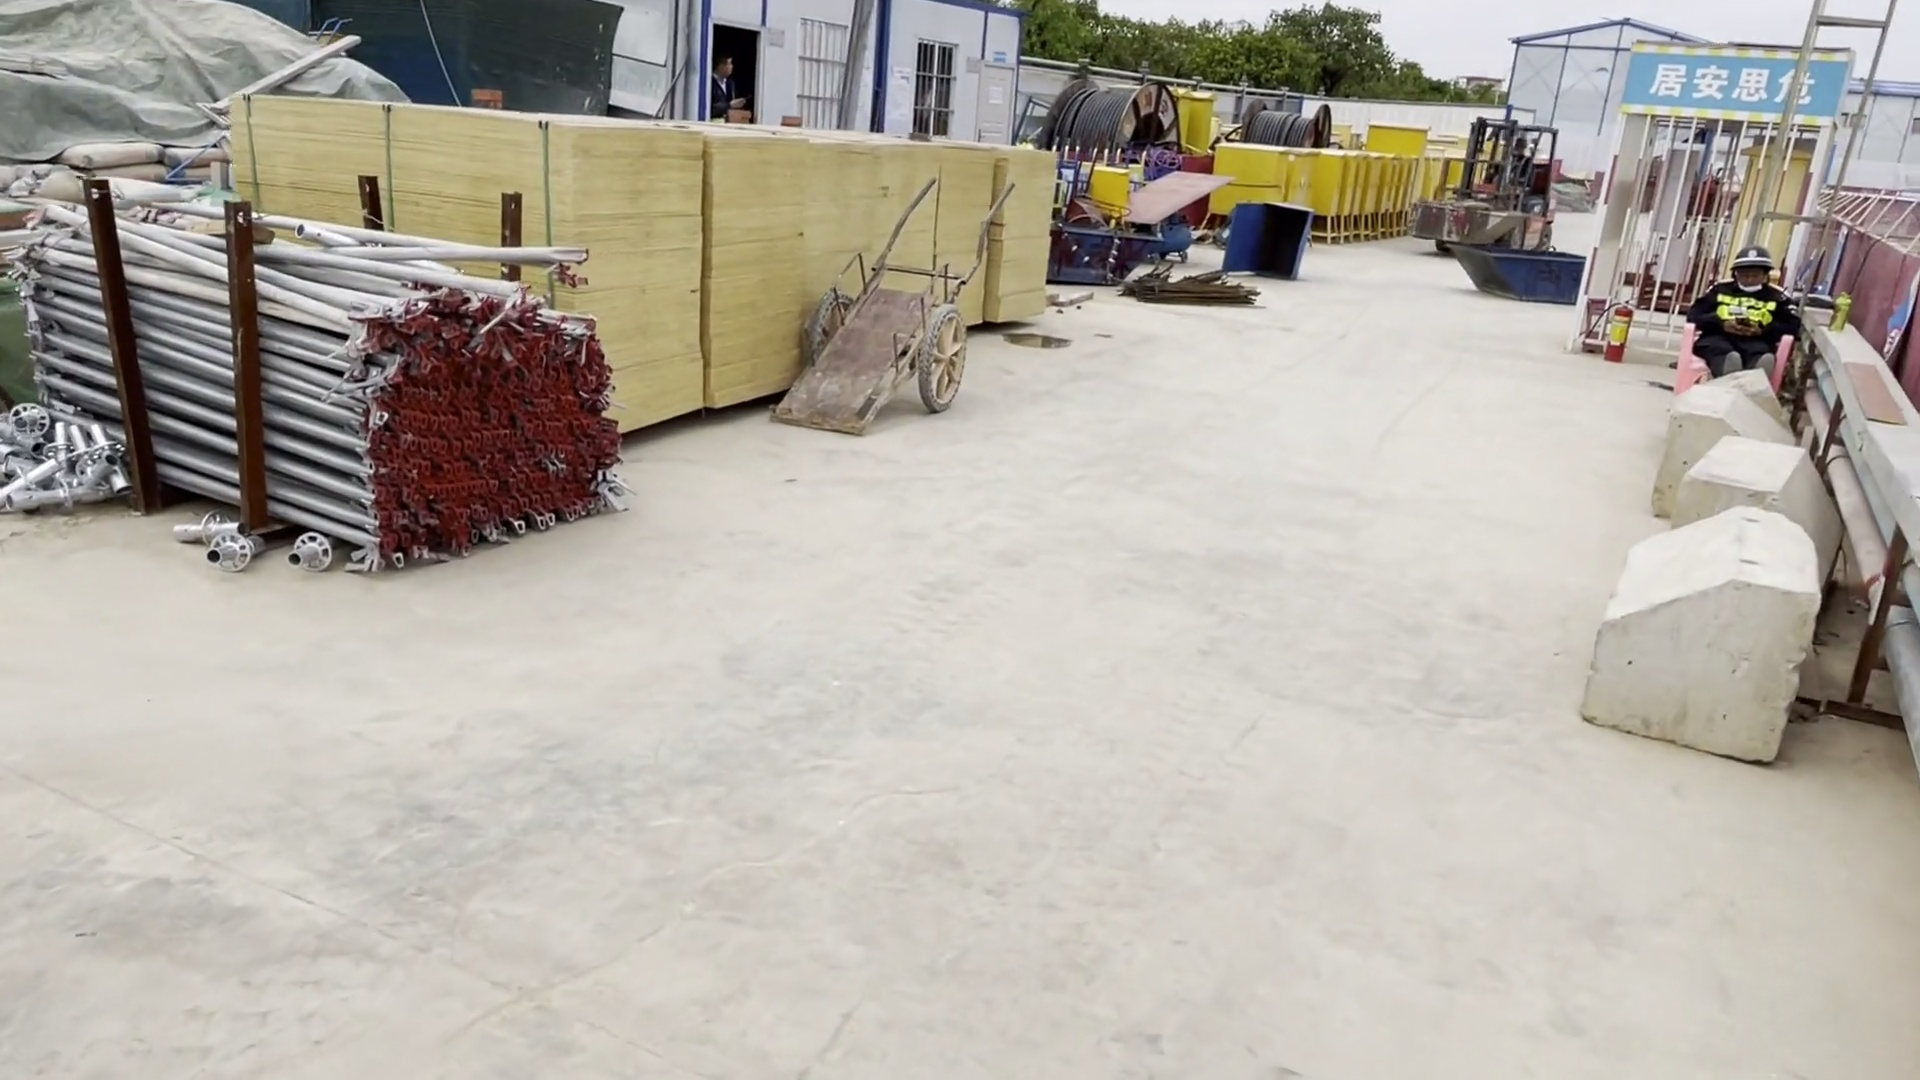ebox: (1214, 141, 1283, 219), (1311, 149, 1348, 220), (1366, 116, 1424, 152), (1287, 146, 1315, 219), (1184, 91, 1214, 153), (1086, 169, 1131, 210)
handcart: (771, 163, 1013, 450)
helmet: (1725, 242, 1778, 268)
person: (1686, 249, 1801, 382)
scaffold: (29, 189, 646, 596)
vest: (1717, 279, 1786, 348)
